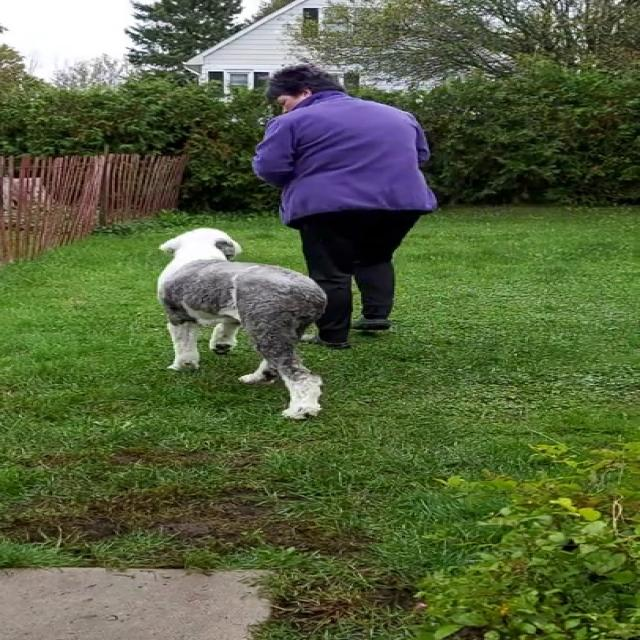Unleashed_Dog: (155, 205, 376, 418)
